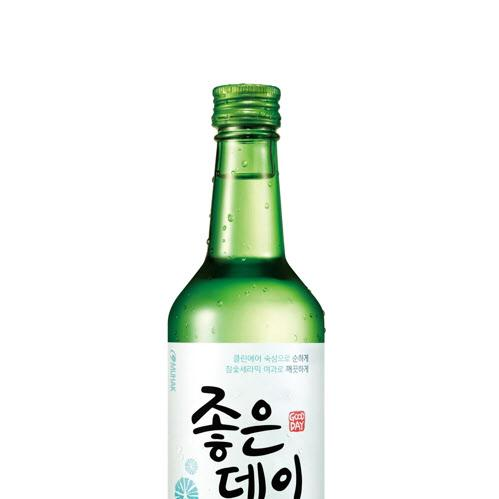soju: (163, 78, 332, 499)
